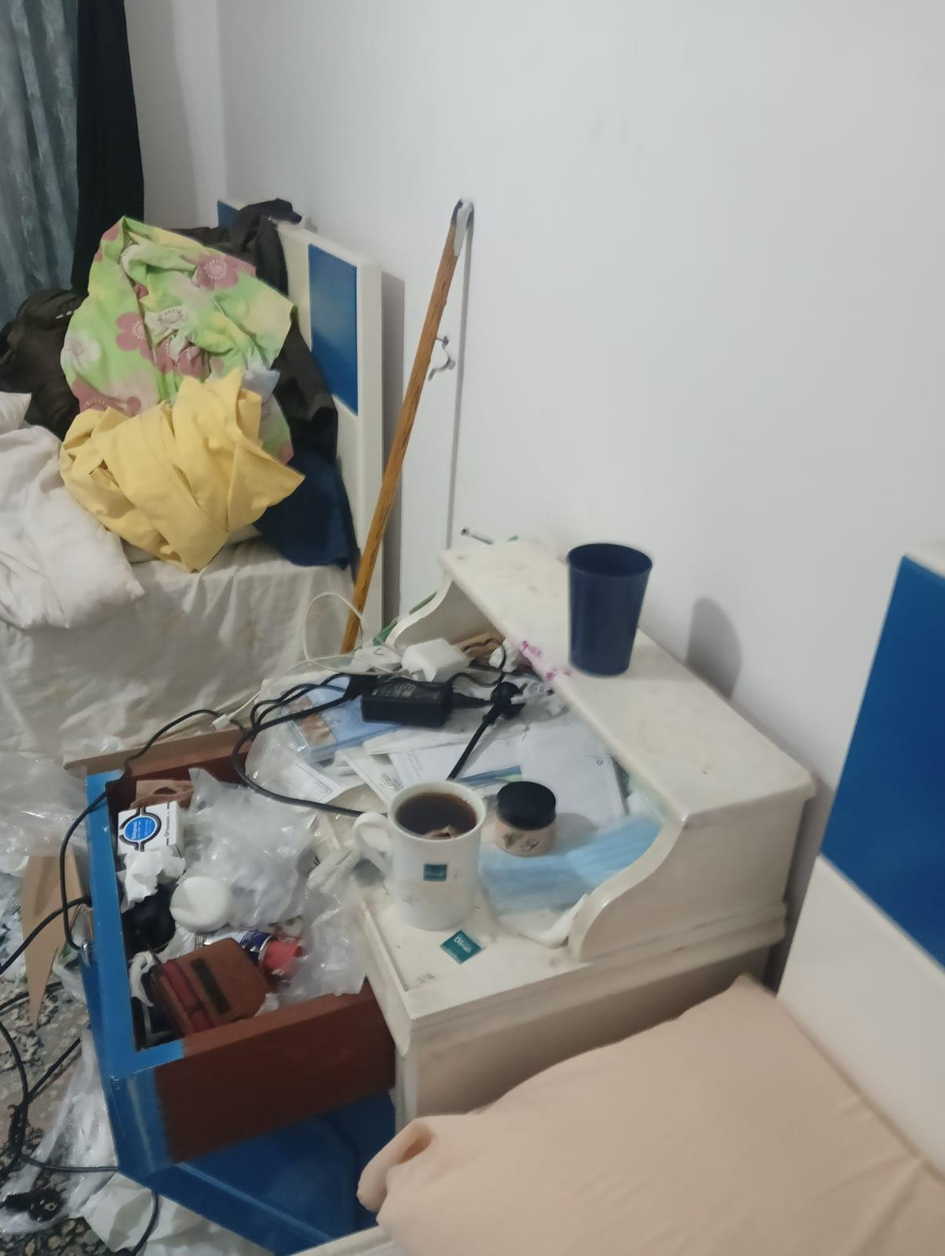cup: (352, 781, 486, 930), (567, 542, 652, 677), (389, 780, 487, 857)
